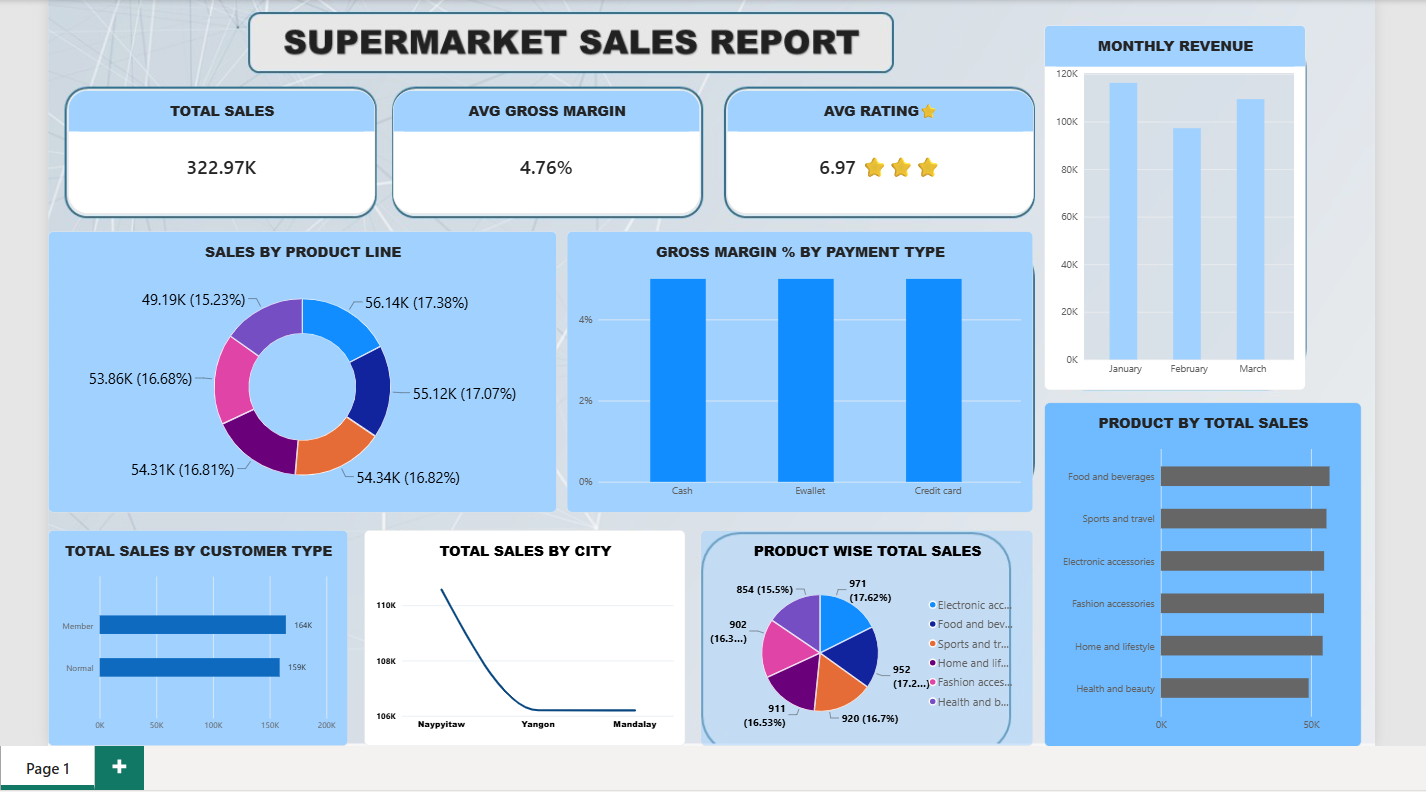

This screenshot's page, from the dashboard's own definition file:
{"tool":"powerbi","page":{"name":"Page 1","canvas":[1920,1080],"ordinal":0},"visuals":[{"type":"card","title":"TOTAL SALES","fields":{"Values":["calculated_table.total_sales"]},"box":[28.8,129.7,444.6,179.1],"z":0},{"type":"card","title":"AVG GROSS MARGIN ","fields":{"Values":["calculated_table.Gross Margin %"]},"box":[500.2,129.7,444.6,179.1],"z":1000},{"type":"card","title":"AVG RATING⭐ ","fields":{"Values":["calculated_table.avg_rating"]},"box":[981.8,129.7,444.6,179.1],"z":2000},{"type":"clusteredColumnChart","title":"MONTHLY REVENUE","fields":{"Category":["supermarket_table.Date.Variation.Date Hierarchy.Month"],"Y":["calculated_table.total_sales"]},"box":[1442.9,37,378.7,529],"z":3000},{"type":"donutChart","title":"SALES BY PRODUCT LINE","fields":{"Category":["RevenueByProductLine.Product line"],"Y":["Sum(RevenueByProductLine.Revenue)"]},"box":[0,335.5,736.9,407.5],"z":4000},{"type":"clusteredColumnChart","title":" GROSS MARGIN % BY PAYMENT TYPE ","fields":{"Category":["supermarket_table.Payment"],"Y":["calculated_table.Gross Margin %"]},"box":[751.3,335.5,675.1,407.5],"z":4001},{"type":"clusteredBarChart","title":"TOTAL SALES BY CUSTOMER TYPE","fields":{"Category":["supermarket_table.Customer type"],"Y":["calculated_table.total_sales"]},"box":[0,767.8,434.3,312.9],"z":4002},{"type":"clusteredBarChart","title":"PRODUCT BY TOTAL SALES","fields":{"Category":["supermarket_table.Product line"],"Y":["calculated_table.total_sales"]},"box":[1442.9,582.5,459,498.1],"z":4003},{"type":"lineChart","title":"TOTAL SALES BY CITY","fields":{"Category":["supermarket_table.City"],"Y":["calculated_table.total_sales"]},"box":[456.9,767.8,465.2,312.9],"z":4004},{"type":"pieChart","title":"PRODUCT WISE TOTAL SALES","fields":{"Category":["supermarket_table.Product line"],"Y":["calculated_table.total_qty"]},"box":[944.8,767.8,481.6,312.9],"z":4005}]}

Visuals, with their boxes on the page's 1920x1080 design canvas (x1, y1, x2, y2). These are canvas units, not pixel positions in the 1426x792 screenshot, which may show the page scaled, cropped or inside an application window:
"TOTAL SALES" card: (left=29, top=130, right=473, bottom=309)
"AVG GROSS MARGIN " card: (left=500, top=130, right=945, bottom=309)
"AVG RATING⭐ " card: (left=982, top=130, right=1426, bottom=309)
"MONTHLY REVENUE" clusteredColumnChart: (left=1443, top=37, right=1822, bottom=566)
"SALES BY PRODUCT LINE" donutChart: (left=0, top=336, right=737, bottom=743)
" GROSS MARGIN % BY PAYMENT TYPE " clusteredColumnChart: (left=751, top=336, right=1426, bottom=743)
"TOTAL SALES BY CUSTOMER TYPE" clusteredBarChart: (left=0, top=768, right=434, bottom=1081)
"PRODUCT BY TOTAL SALES" clusteredBarChart: (left=1443, top=582, right=1902, bottom=1081)
"TOTAL SALES BY CITY" lineChart: (left=457, top=768, right=922, bottom=1081)
"PRODUCT WISE TOTAL SALES" pieChart: (left=945, top=768, right=1426, bottom=1081)
